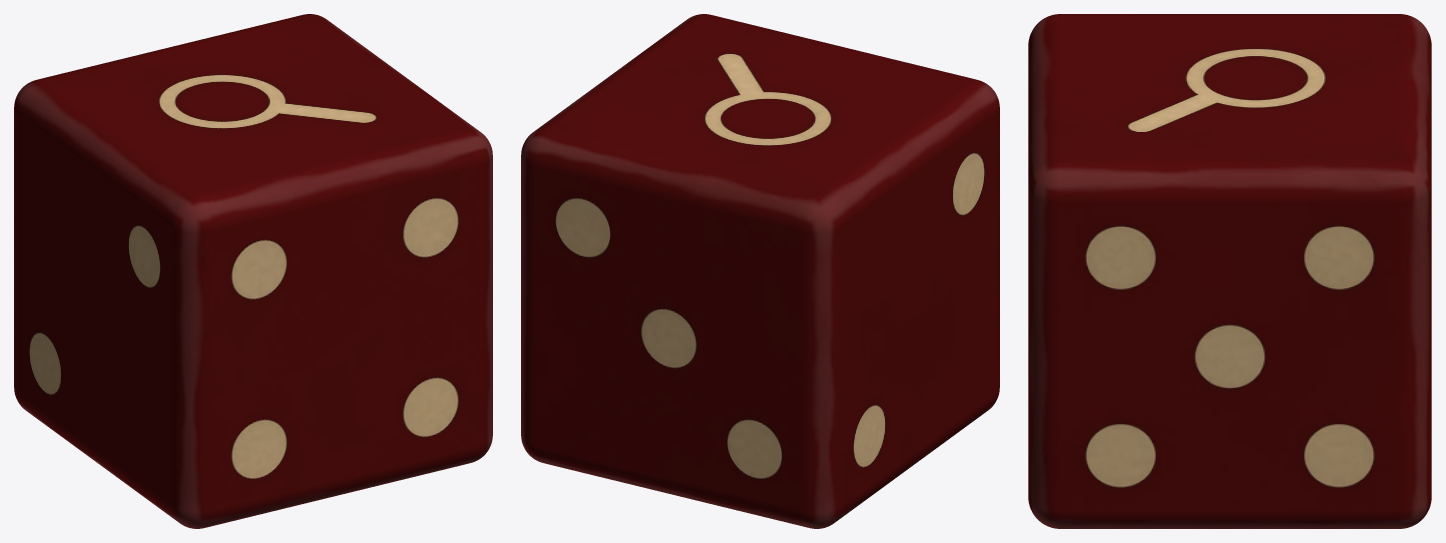
Rendered from dice_6.gltf.
3 renders of one model, left to right at view 1: azimuth 30°, elevation 25°; view 2: azimuth 150°, elevation 25°; view 3: azimuth 270°, elevation 25°, orthographic. The views are drawn at different scales.
Visible parts, largest first — view 1: dice_6; view 2: dice_6; view 3: dice_6.
Boxes of the visible parts, box(x1,y1,x2,y2) form: dice_6: box(14, 14, 492, 528); dice_6: box(521, 14, 999, 528); dice_6: box(1028, 14, 1431, 528).
Bounding box in the file's own units: 104 × 104 × 104.
Materials: 1 (1 with a texture image).
